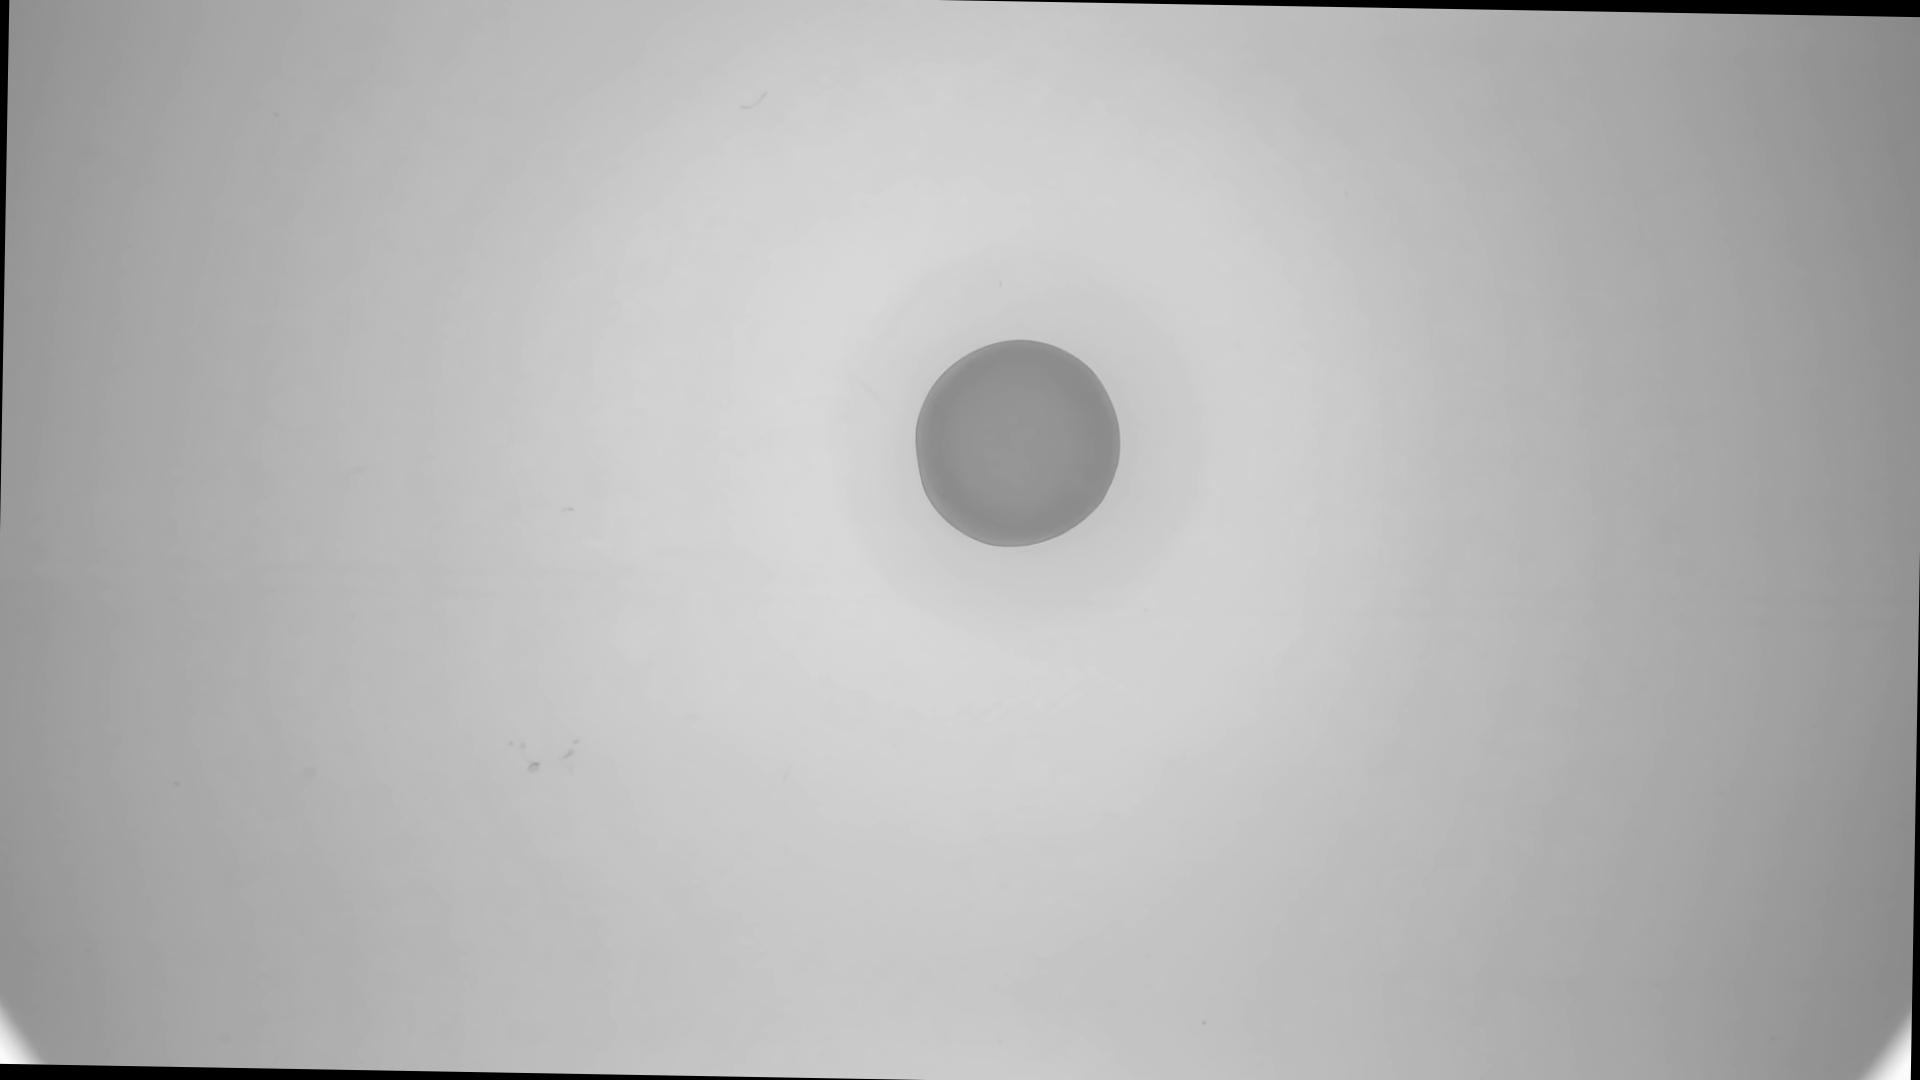normal: (916, 335, 1124, 553)
